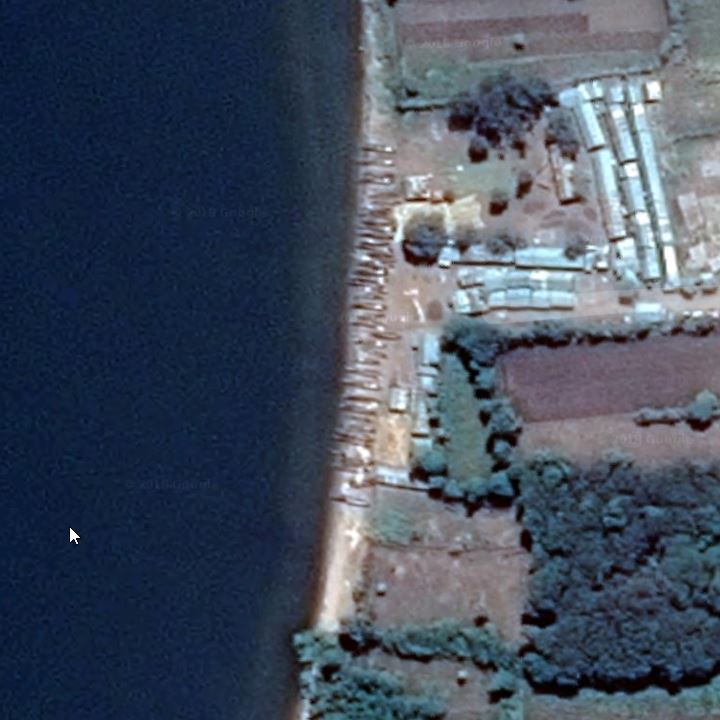boat: (353, 344, 392, 364), (339, 363, 384, 379), (335, 402, 380, 417), (352, 154, 397, 169), (339, 377, 383, 392), (331, 429, 376, 443), (357, 171, 396, 186), (329, 436, 375, 448), (346, 276, 384, 290), (356, 143, 399, 155), (348, 337, 386, 350), (346, 300, 388, 311), (342, 393, 383, 404), (346, 268, 387, 279), (358, 216, 395, 228), (354, 230, 394, 241), (364, 188, 399, 200), (353, 310, 387, 322), (370, 330, 403, 342), (350, 224, 394, 233), (355, 242, 393, 252), (368, 197, 399, 209), (344, 319, 384, 328), (361, 251, 393, 262), (352, 261, 387, 271), (352, 291, 384, 301)
